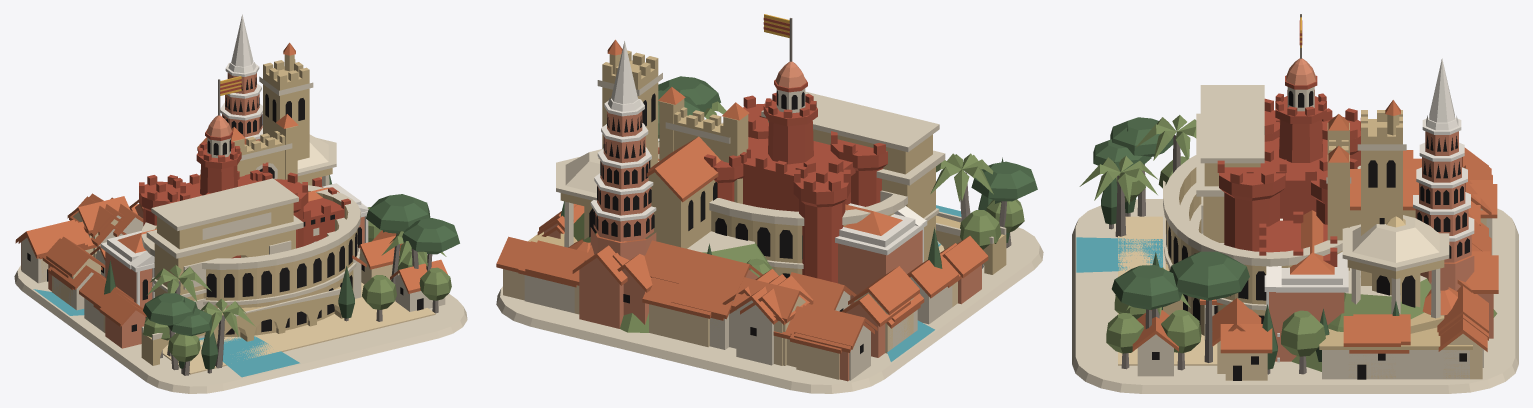
The model's file is cities.glb.
The picture shows the model from 3 angles, left to right: view 1: azimuth 30°, elevation 25°; view 2: azimuth 150°, elevation 25°; view 3: azimuth 270°, elevation 25°; orthographic projection. The views are drawn at different scales.
Parts seen in each view (by area): view 1: city_beziers_mesh, city_montpellier_mesh, city_toulouse_mesh, city_nimes_mesh, city_perpignan_mesh; view 2: city_beziers_mesh, city_toulouse_mesh, city_perpignan_mesh, city_montpellier_mesh, city_nimes_mesh; view 3: city_beziers_mesh, city_montpellier_mesh, city_toulouse_mesh, city_perpignan_mesh, city_nimes_mesh.
Part boxes in pixels (x1,y1,x2,y2): city_beziers_mesh: [14, 42, 467, 393]; city_montpellier_mesh: [16, 134, 430, 370]; city_toulouse_mesh: [15, 14, 451, 374]; city_nimes_mesh: [48, 185, 459, 373]; city_perpignan_mesh: [18, 76, 446, 368]; city_beziers_mesh: [496, 39, 1043, 393]; city_toulouse_mesh: [496, 41, 1024, 381]; city_perpignan_mesh: [525, 14, 993, 365]; city_montpellier_mesh: [528, 90, 1037, 380]; city_nimes_mesh: [518, 76, 1009, 367]; city_beziers_mesh: [1072, 100, 1518, 393]; city_montpellier_mesh: [1110, 85, 1491, 379]; city_toulouse_mesh: [1106, 58, 1498, 380]; city_perpignan_mesh: [1079, 14, 1497, 379]; city_nimes_mesh: [1101, 125, 1491, 374].
Size of the model in its own units: 3.2 by 2.2 by 3.2.
